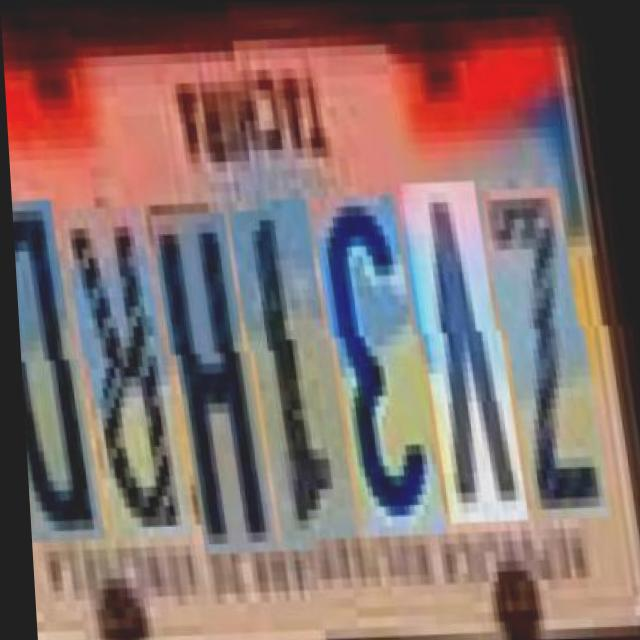1: (233, 195, 351, 537)
3: (316, 191, 439, 535)
d: (9, 184, 96, 526)
h: (156, 197, 269, 539)
r: (68, 190, 184, 522)
v: (402, 178, 520, 521)
z: (488, 186, 604, 518)
